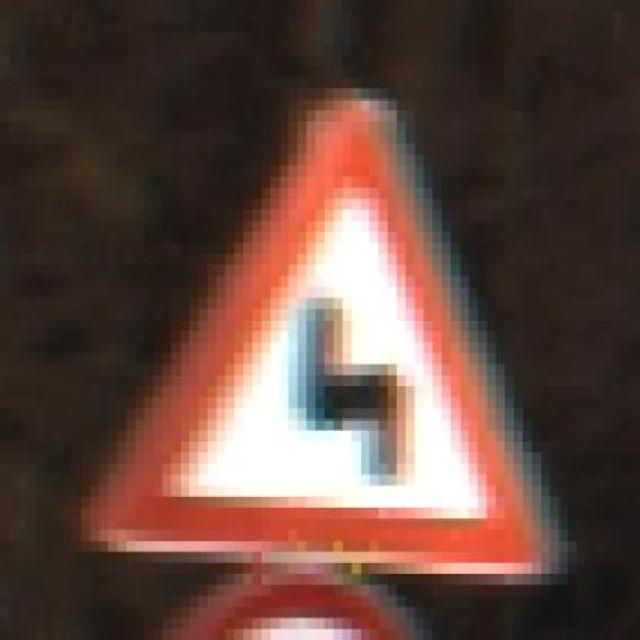Left Zig Zag Traffic: (80, 55, 578, 574)
